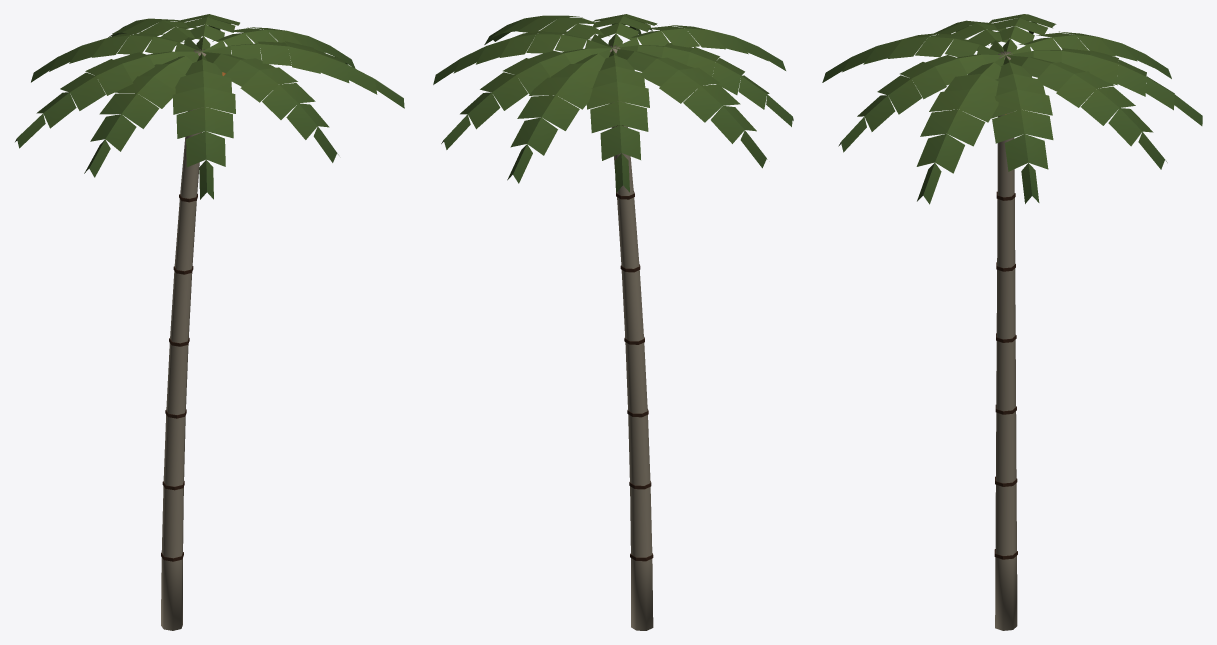
Rendered from cay_cau.glb.
3 renders of one model, left to right at view 1: azimuth 30°, elevation 25°; view 2: azimuth 150°, elevation 25°; view 3: azimuth 270°, elevation 25°, orthographic. The views are drawn at different scales.
Visible parts, largest first — view 1: la, than; view 2: la, than; view 3: la, than.
Boxes of the visible parts, x1,y1,x2,y2 form: la: (15, 14, 404, 199); than: (161, 49, 206, 630); la: (433, 14, 793, 192); than: (610, 45, 653, 630); la: (822, 14, 1202, 204); than: (995, 51, 1017, 630).
Size of the model in its own units: 6.79 by 11.1 by 6.48.
